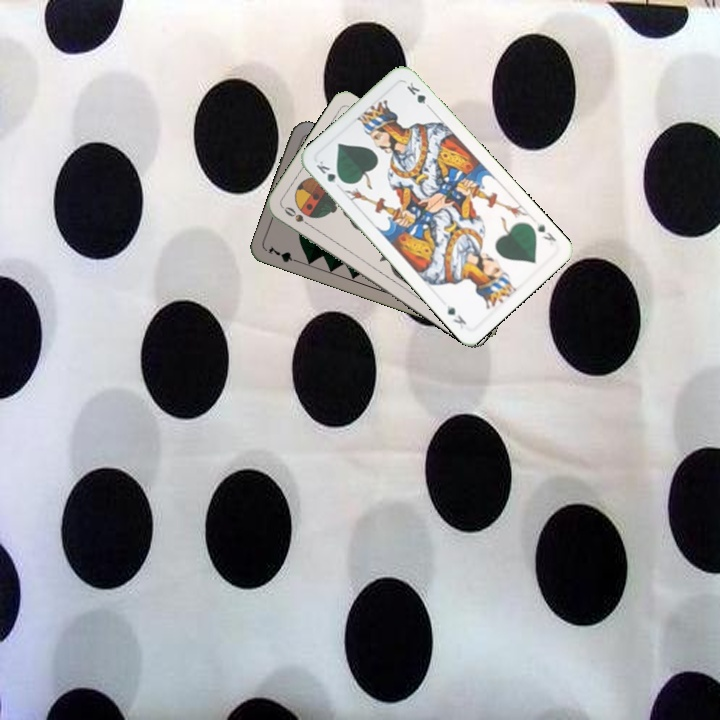G7: (264, 242, 303, 266)
GK: (312, 156, 347, 186), (533, 218, 559, 244)
SO: (279, 202, 315, 230)
